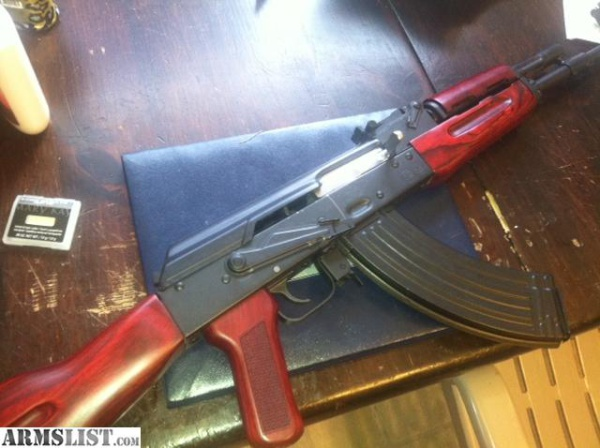ak47: (1, 29, 598, 425)
